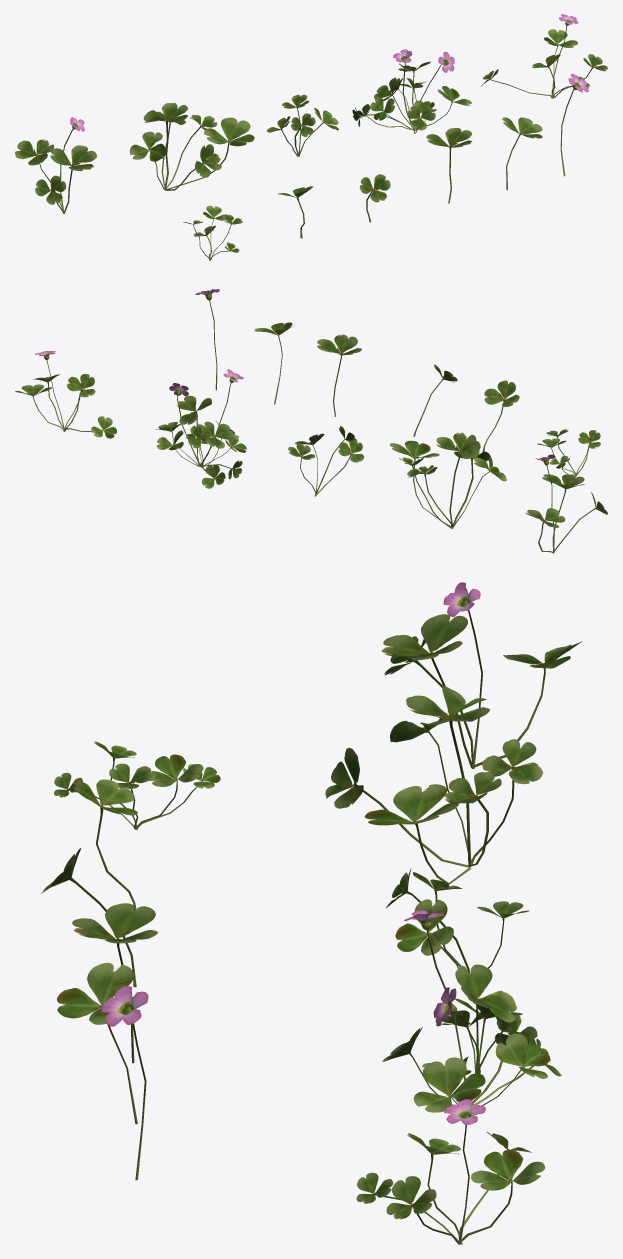
The model's file is polyhaven-shrub-sorrel-01.glb.
The picture shows the model from 3 angles, top to bottom: view 1: azimuth 30°, elevation 25°; view 2: azimuth 150°, elevation 25°; view 3: azimuth 270°, elevation 25°; orthographic projection. The views are drawn at different scales.
Visible parts, largest first — view 1: shrub_sorrel_01_b_0, shrub_sorrel_01_d_0, shrub_sorrel_01_a_0, shrub_sorrel_01_e_0, shrub_sorrel_01_c_0, shrub_sorrel_01_f_0, shrub_sorrel_01_i_0, shrub_sorrel_01_h_0, shrub_sorrel_01_j_0, shrub_sorrel_01_k_0; view 2: shrub_sorrel_01_d_0, shrub_sorrel_01_b_0, shrub_sorrel_01_e_0, shrub_sorrel_01_a_0, shrub_sorrel_01_c_0, shrub_sorrel_01_f_0, shrub_sorrel_01_i_0, shrub_sorrel_01_g_0, shrub_sorrel_01_j_0; view 3: shrub_sorrel_01_b_0, shrub_sorrel_01_d_0, shrub_sorrel_01_e_0, shrub_sorrel_01_a_0, shrub_sorrel_01_f_0, shrub_sorrel_01_c_0, shrub_sorrel_01_j_0, shrub_sorrel_01_i_0, shrub_sorrel_01_k_0, shrub_sorrel_01_g_0.
Part boxes in pixels (x1,y1,x2,y2): shrub_sorrel_01_b_0: (129, 102, 254, 190); shrub_sorrel_01_d_0: (352, 49, 471, 133); shrub_sorrel_01_a_0: (15, 117, 96, 213); shrub_sorrel_01_e_0: (481, 14, 607, 98); shrub_sorrel_01_c_0: (267, 94, 338, 156); shrub_sorrel_01_f_0: (183, 205, 242, 260); shrub_sorrel_01_i_0: (426, 128, 472, 203); shrub_sorrel_01_h_0: (359, 174, 390, 222); shrub_sorrel_01_j_0: (502, 117, 542, 190); shrub_sorrel_01_k_0: (560, 74, 588, 176); shrub_sorrel_01_d_0: (155, 369, 246, 488); shrub_sorrel_01_b_0: (389, 432, 506, 528); shrub_sorrel_01_e_0: (15, 351, 116, 438); shrub_sorrel_01_a_0: (525, 454, 607, 553); shrub_sorrel_01_c_0: (288, 426, 364, 496); shrub_sorrel_01_f_0: (537, 429, 600, 476); shrub_sorrel_01_i_0: (317, 334, 361, 416); shrub_sorrel_01_g_0: (482, 380, 519, 452); shrub_sorrel_01_j_0: (254, 322, 294, 404); shrub_sorrel_01_b_0: (325, 686, 542, 884); shrub_sorrel_01_d_0: (382, 910, 561, 1112); shrub_sorrel_01_e_0: (356, 1099, 545, 1244); shrub_sorrel_01_a_0: (381, 582, 582, 768); shrub_sorrel_01_f_0: (54, 741, 220, 829); shrub_sorrel_01_c_0: (385, 868, 529, 973); shrub_sorrel_01_j_0: (57, 962, 137, 1124); shrub_sorrel_01_i_0: (72, 903, 158, 1063); shrub_sorrel_01_k_0: (101, 985, 148, 1180); shrub_sorrel_01_g_0: (73, 779, 137, 910).
Bounding box in the file's own units: 0.3521 × 0.058 × 0.1464.
1 material, 1 textured.
